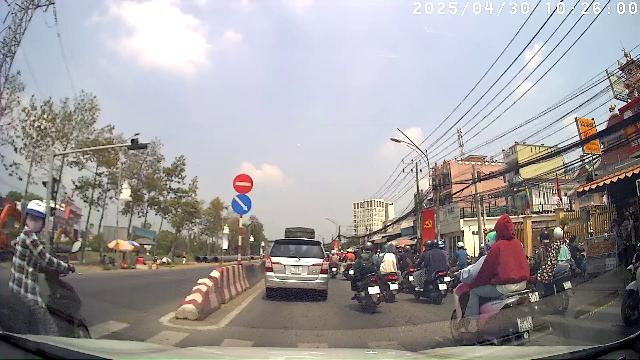102-cam-di-nguoc-chieu: (233, 173, 253, 193)
302a-huong-phai-di-vong-chuong-ngai-vat-1: (232, 194, 251, 214)
